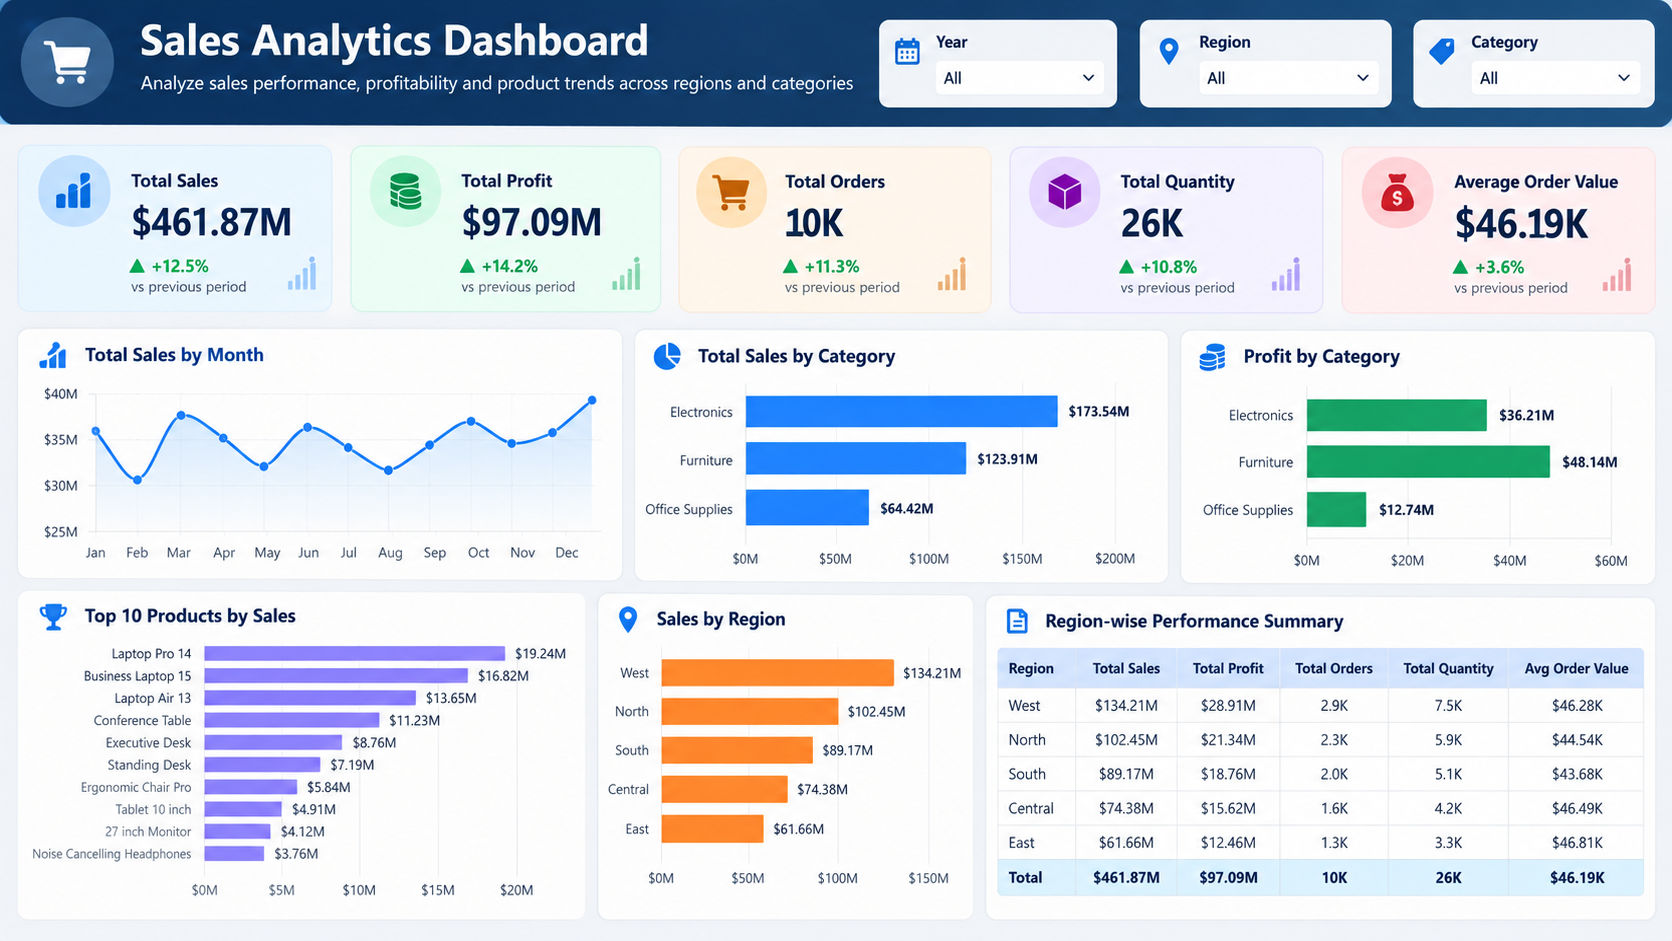

What the dashboard file says about the page in this screenshot:
{"tool":"powerbi","page":{"name":"Page 1","canvas":[1920,1080],"ordinal":0},"visuals":[{"type":"cardVisual","fields":{"Data":["fact_sales.Total Sales"]},"box":[331.4,4.1,267.6,222.3],"z":0},{"type":"cardVisual","fields":{"Data":["fact_sales.Total Profit"]},"box":[598.1,0,240.8,222.3],"z":1000},{"type":"cardVisual","fields":{"Data":["dim_customer.Total Orders"]},"box":[839,0,253.2,222.3],"z":2000},{"type":"cardVisual","fields":{"Data":["fact_sales.Total Quantity"]},"box":[1092.1,4.1,228.5,218.2],"z":3000},{"type":"cardVisual","fields":{"Data":["dim_customer.Average Order Value"]},"box":[1320.6,4.1,224.4,218.2],"z":4000},{"type":"lineChart","fields":{"Category":["dim_date.Month"],"Y":["fact_sales.Total Sales"]},"box":[981.8,568.1,897.4,317],"z":5000},{"type":"clusteredBarChart","fields":{"Category":["dim_product.Category"],"Y":["fact_sales.Total Sales"]},"box":[331.4,247,627.8,300.5],"z":6000},{"type":"clusteredBarChart","title":"Profit by Category","fields":{"Category":["dim_product.Category"],"Y":["fact_sales.Total Profit"]},"box":[981.8,247,897.4,300.5],"z":7000},{"type":"clusteredBarChart","title":"Sales by Region","fields":{"Category":["dim_region.Region"],"Y":["fact_sales.Total Sales"]},"box":[331.4,568.1,627.8,317],"z":9000},{"type":"slicer","fields":{"Values":["dim_region.Region"]},"box":[16.5,446.7,292.3,158.5],"z":11000},{"type":"slicer","fields":{"Values":["dim_product.Category"]},"box":[16.5,629.8,292.3,255.2],"z":12000},{"type":"image","box":[16.5,0,292.3,226.4],"z":12001},{"type":"cardVisual","fields":{"Data":["dim_customer.Profit Margin %"]},"box":[1566.4,4.1,292.3,218.2],"z":12002}]}

Visuals, with their boxes in screenshot pixels (x1, y1, x2, y2), scaled from the page's 1920x1080 canvas onto the 1672x941 screenshot:
cardVisual - fact_sales.Total Sales: (x1=289, y1=4, x2=522, y2=197)
cardVisual - fact_sales.Total Profit: (x1=521, y1=0, x2=731, y2=194)
cardVisual - dim_customer.Total Orders: (x1=731, y1=0, x2=951, y2=194)
cardVisual - fact_sales.Total Quantity: (x1=951, y1=4, x2=1150, y2=194)
cardVisual - dim_customer.Average Order Value: (x1=1150, y1=4, x2=1345, y2=194)
lineChart - dim_date.Month x fact_sales.Total Sales: (x1=855, y1=495, x2=1636, y2=771)
clusteredBarChart - dim_product.Category x fact_sales.Total Sales: (x1=289, y1=215, x2=835, y2=477)
"Profit by Category" clusteredBarChart: (x1=855, y1=215, x2=1636, y2=477)
"Sales by Region" clusteredBarChart: (x1=289, y1=495, x2=835, y2=771)
slicer - dim_region.Region: (x1=14, y1=389, x2=269, y2=527)
slicer - dim_product.Category: (x1=14, y1=549, x2=269, y2=771)
image: (x1=14, y1=0, x2=269, y2=197)
cardVisual - dim_customer.Profit Margin %: (x1=1364, y1=4, x2=1619, y2=194)
